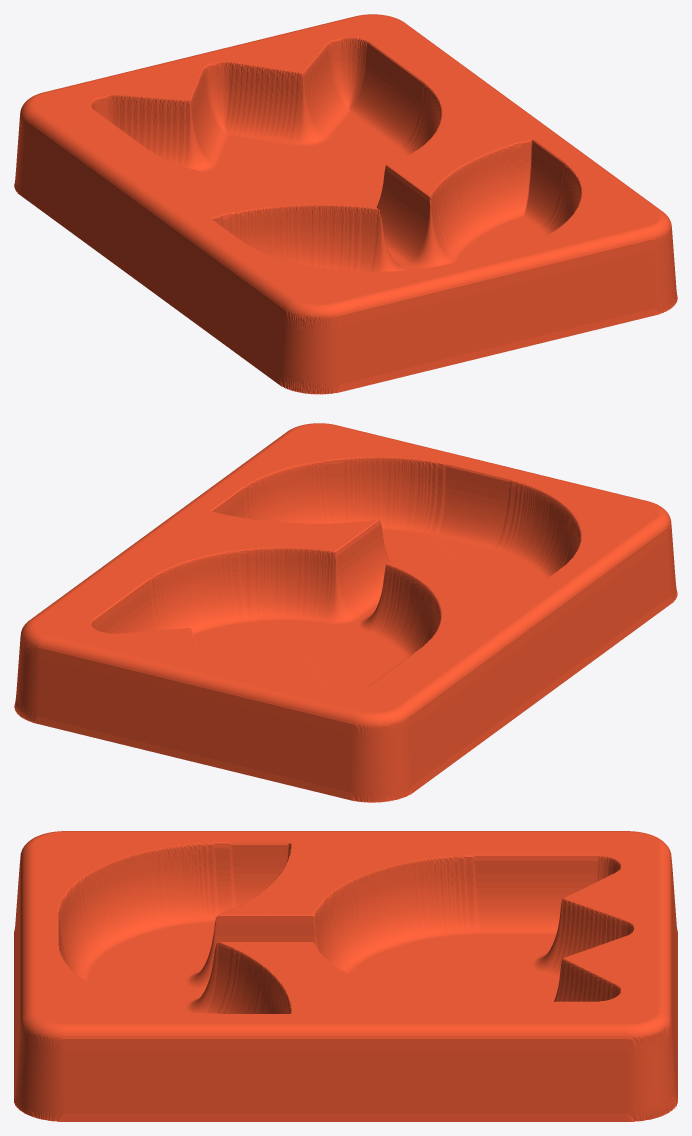
Rendered from mold.glb.
3 renders of one model, top to bottom at view 1: azimuth 30°, elevation 25°; view 2: azimuth 150°, elevation 25°; view 3: azimuth 270°, elevation 25°, orthographic. The views are drawn at different scales.
Visible parts, largest first — view 1: geometry_0; view 2: geometry_0; view 3: geometry_0.
Part boxes in pixels (box(x1,y1,x2,y2)): geometry_0: box(14, 14, 677, 394); geometry_0: box(14, 423, 677, 802); geometry_0: box(14, 831, 677, 1121).
Bounding box in the file's own units: 0.0876 × 0.0175 × 0.1178.
